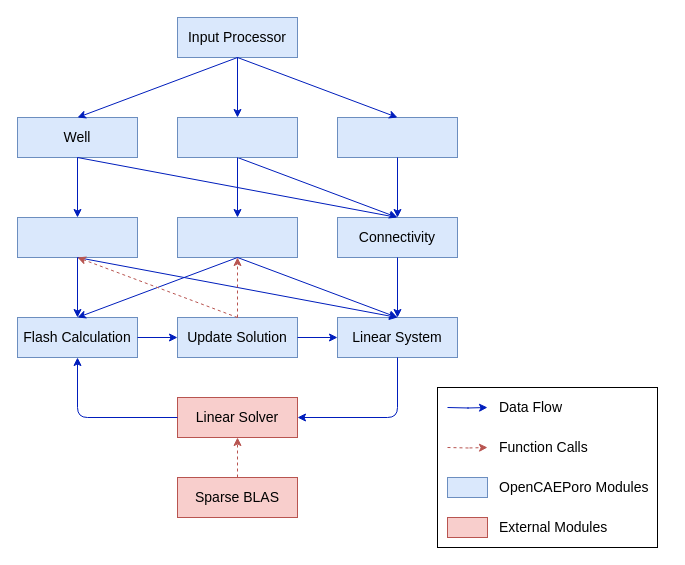
Image size: 685x565. Some labels were removed from this diagram. Here are the shapes that lost their labels. From the top down, the centre of each, then its label:
At (x=237, y=137): "Grid".
At (x=397, y=137): "NNC".
At (x=77, y=237): "WellFunc".
At (x=237, y=237): "GridFunc".
